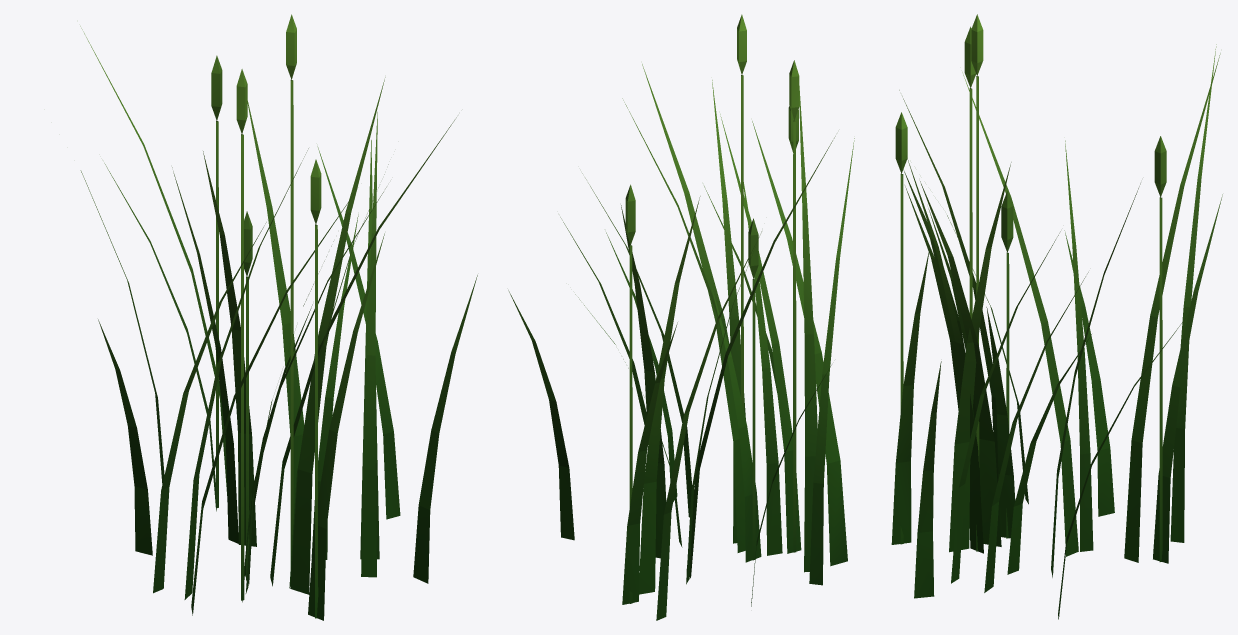
Rendered from LushGrass.glb.
3 views of the same model, side by side, from view 1: azimuth 30°, elevation 25°; view 2: azimuth 150°, elevation 25°; view 3: azimuth 270°, elevation 25° (orthographic). The views are drawn at different scales.
Parts seen in each view (by area): view 1: Blades; view 2: Blades; view 3: Blades.
Boxes of the visible parts, x1=… form: Blades: x1=80, y1=14, x2=477, y2=620; Blades: x1=508, y1=14, x2=854, y2=620; Blades: x1=891, y1=14, x2=1222, y2=619.
Size of the model in its own units: 0.2008 by 0.3441 by 0.1974.
